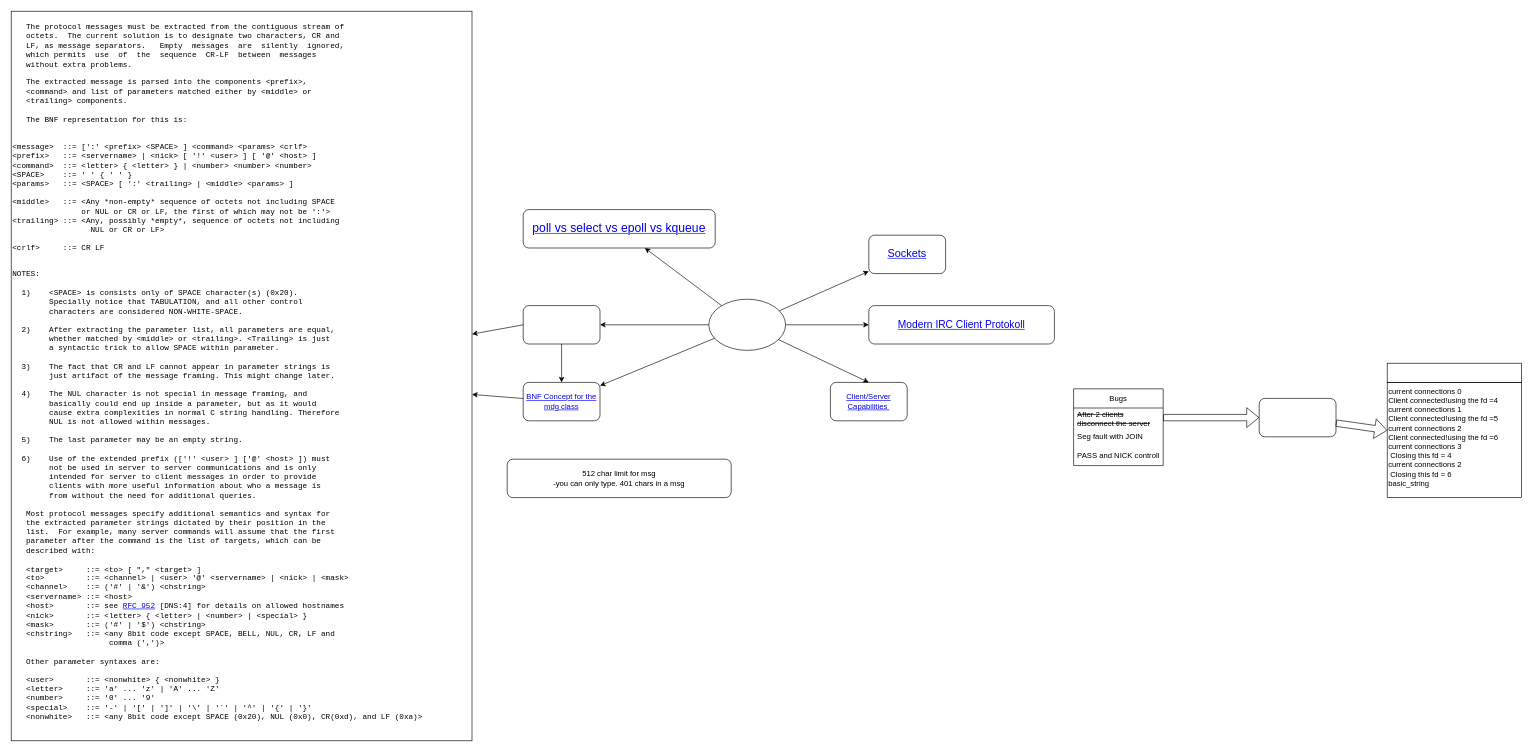
Image size: 1533x752. Some labels were removed from this diagram. Each missing label, with the centre of its shape:
"connected 3 clients with nc quit 2 of them with ctrl c ." belongs at (x=1297, y=417).
"IRC_DOC" belongs at (x=561, y=324).
"RTFM" belongs at (x=747, y=324).
"Server terminal" belongs at (x=1454, y=372).
